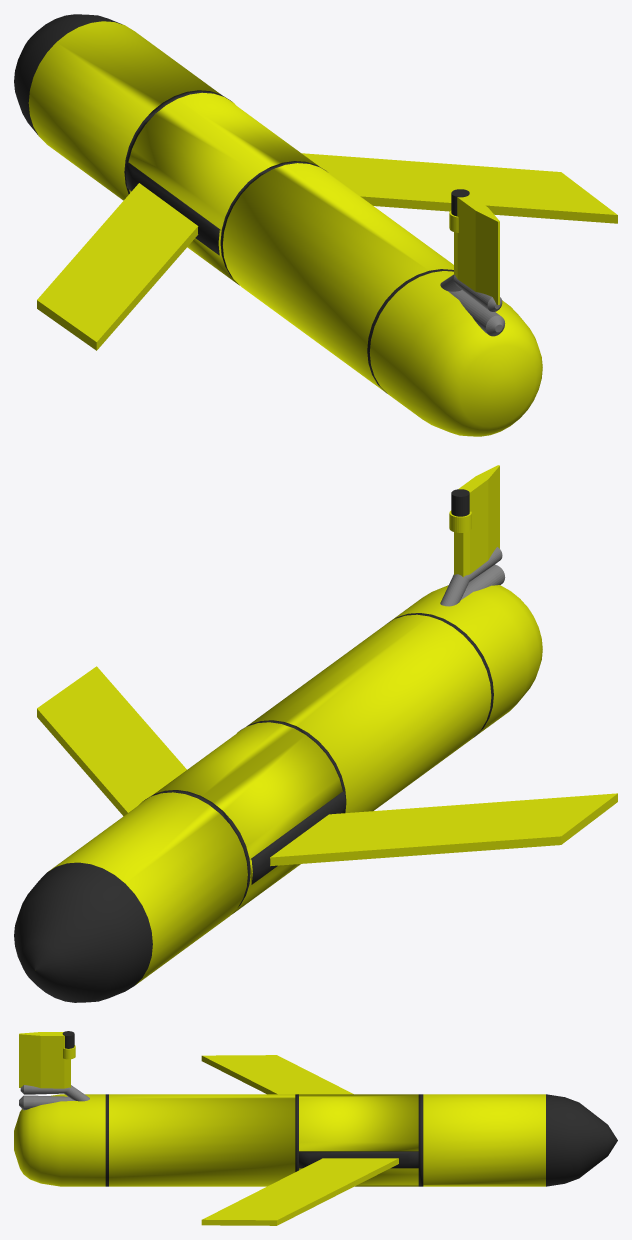
Rendered from glider.glb.
3 renders of one model, top to bottom at view 1: azimuth 30°, elevation 25°; view 2: azimuth 150°, elevation 25°; view 3: azimuth 270°, elevation 25°, orthographic. The views are drawn at different scales.
Visible parts, largest first — view 1: Cylinder, Cube.001, Cube.002, Cube.003, Cylinder.004, Cylinder.001; view 2: Cylinder, Cube.001, Cube.002, Cube.003, Cylinder.001; view 3: Cylinder, Cube.002, Cube.001, Cube.003, Cylinder.001, Cylinder.004.
Boxes of the visible parts, box(x1,y1,x2,y2) form: Cylinder: box(14, 14, 542, 436); Cube.001: box(37, 183, 198, 350); Cube.002: box(302, 153, 617, 223); Cube.003: box(454, 194, 499, 304); Cylinder.004: box(448, 290, 505, 336); Cylinder.001: box(440, 274, 502, 311); Cylinder: box(14, 585, 542, 1002); Cube.001: box(270, 793, 617, 866); Cube.002: box(37, 666, 186, 816); Cube.003: box(454, 465, 499, 577); Cylinder.001: box(440, 547, 502, 606); Cylinder: box(14, 1094, 617, 1186); Cube.002: box(201, 1158, 398, 1225); Cube.001: box(201, 1055, 353, 1094); Cube.003: box(19, 1032, 70, 1088); Cylinder.001: box(20, 1085, 89, 1101); Cylinder.004: box(19, 1095, 75, 1110).
Size of the model in its own units: 8.45 by 3.55 by 13.05.
